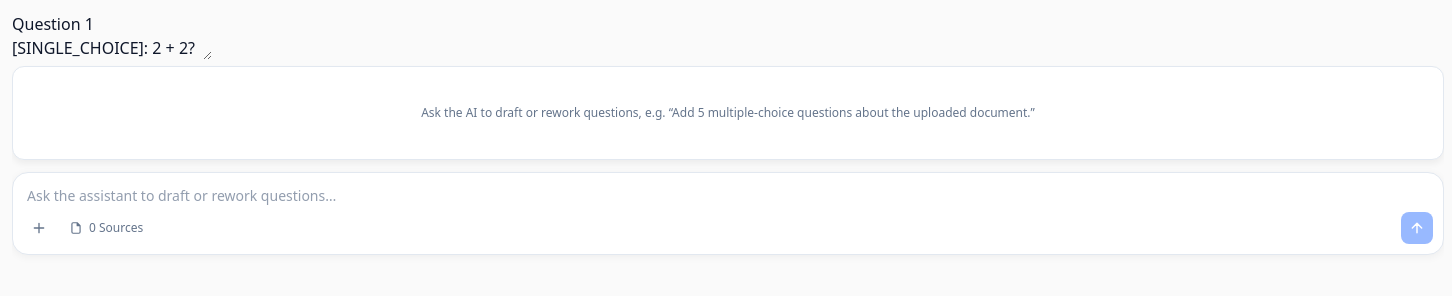
Test: AiAuthoringChat › guards duplicate submissions while a send is pending
The image size is (1452, 296).
Later steps or results of the test are not shown.
Type "Add a question" into the text box named "Message the AI assistant". click: {"x": 728, "y": 190}
box: [13,172,1443,208]
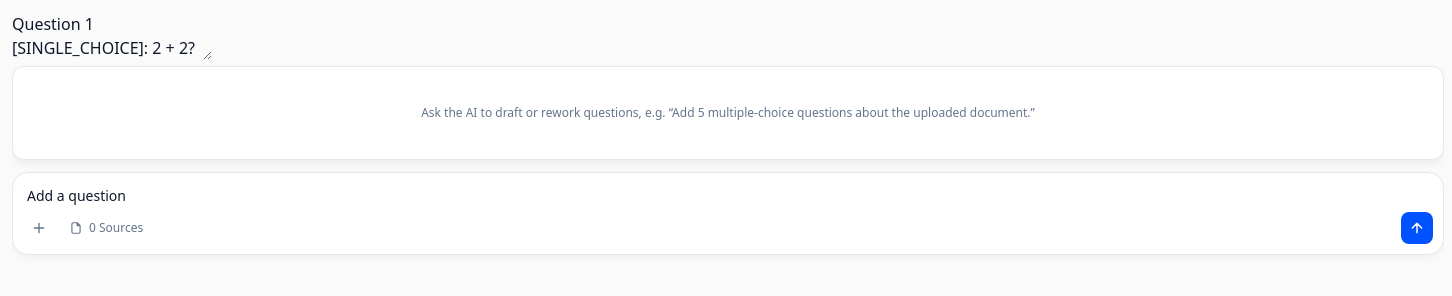
Click the button named "Send message". click: {"x": 1417, "y": 228}
box: [1401,212,1433,244]
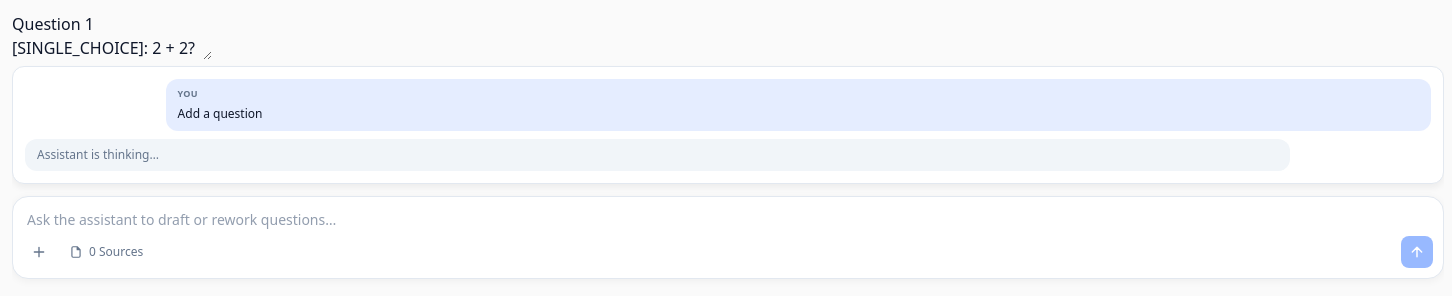
Result: the button named "Send message" is disabled at [1401,236,1433,268]
